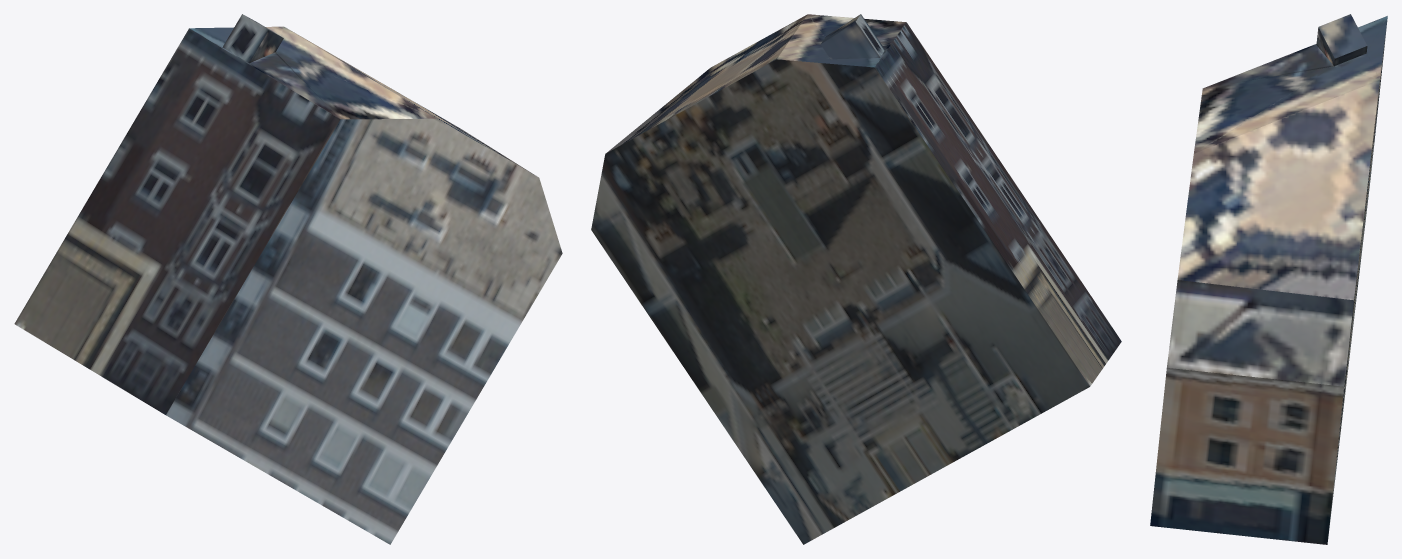
3 renders of one model, left to right at view 1: azimuth 30°, elevation 25°; view 2: azimuth 150°, elevation 25°; view 3: azimuth 270°, elevation 25°, orthographic. The views are drawn at different scales.
Parts seen in each view (by area): view 1: BAG_0599100000671750 (×4); view 2: BAG_0599100000671750 (×5); view 3: BAG_0599100000671750 (×4).
Boxes of the visible parts, box(x1,y1,x2,y2) form: BAG_0599100000671750 (×4): box(14, 14, 562, 544); BAG_0599100000671750 (×5): box(591, 14, 1121, 544); BAG_0599100000671750 (×4): box(1150, 14, 1387, 544).
Size of the model in its own units: 19.94 by 20.34 by 8.73.
Materials: 5 (5 with a texture image).
